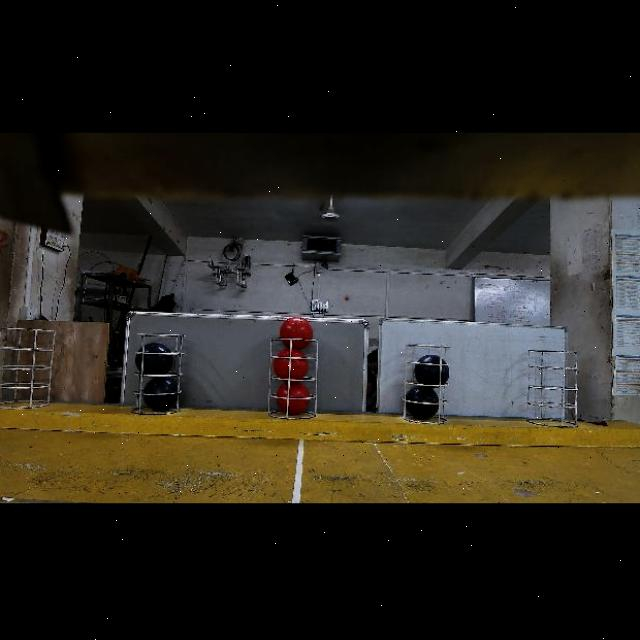P: (136, 343, 173, 378), (142, 377, 177, 413), (414, 355, 449, 389), (406, 387, 439, 420)
R: (273, 350, 308, 383), (276, 382, 309, 415), (280, 318, 313, 351)
S: (507, 346, 583, 418), (266, 331, 322, 422), (132, 330, 186, 416), (0, 322, 52, 408), (398, 346, 448, 422)
